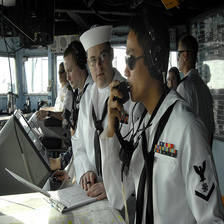laptop: (1, 156, 106, 214)
